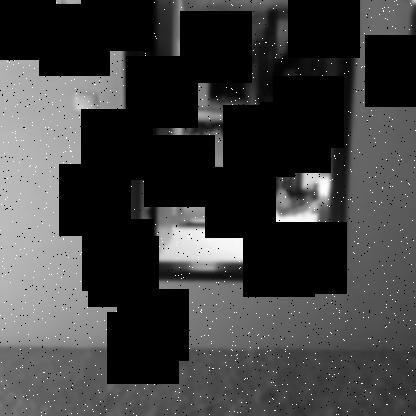Porte: (121, 1, 357, 284)
